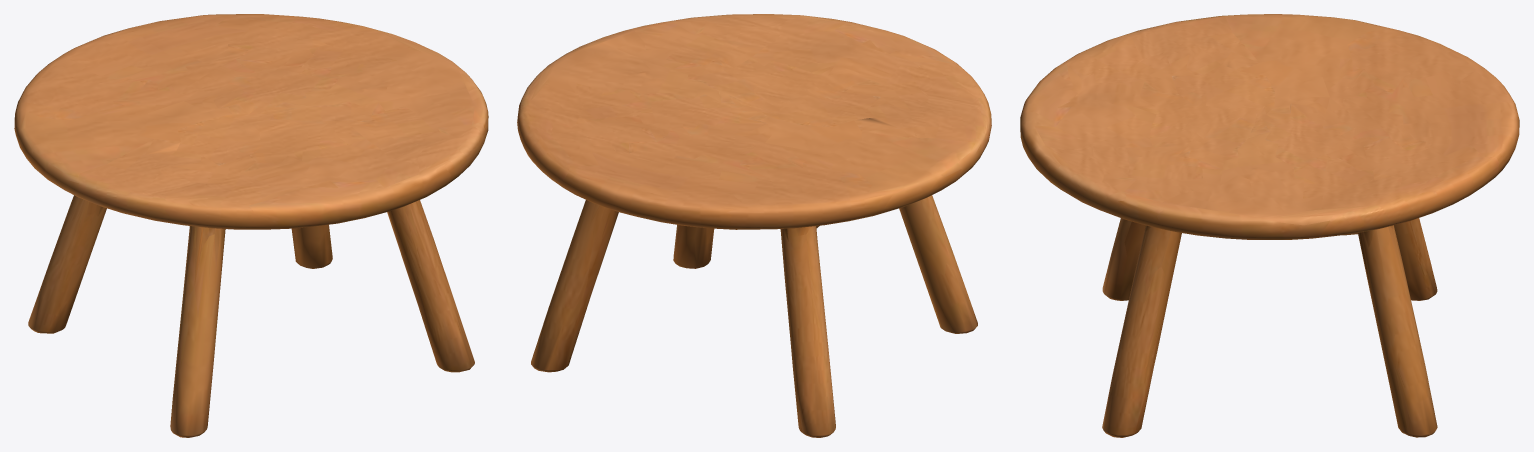
Rendered from cafe-table.glb.
3 views of the same model, side by side, from view 1: azimuth 30°, elevation 25°; view 2: azimuth 150°, elevation 25°; view 3: azimuth 270°, elevation 25° (orthographic). The views are drawn at different scales.
Parts seen in each view (by area): view 1: tripo_node_3556eec3-e5b4-44d5-bb5b-df925d333c88; view 2: tripo_node_3556eec3-e5b4-44d5-bb5b-df925d333c88; view 3: tripo_node_3556eec3-e5b4-44d5-bb5b-df925d333c88.
Boxes of the visible parts, <box> form: tripo_node_3556eec3-e5b4-44d5-bb5b-df925d333c88: <box>14,14,488,437</box>; tripo_node_3556eec3-e5b4-44d5-bb5b-df925d333c88: <box>517,14,991,437</box>; tripo_node_3556eec3-e5b4-44d5-bb5b-df925d333c88: <box>1020,14,1519,437</box>.
Size of the model in its own units: 1.8 by 1 by 1.8.
1 material, 1 textured.
